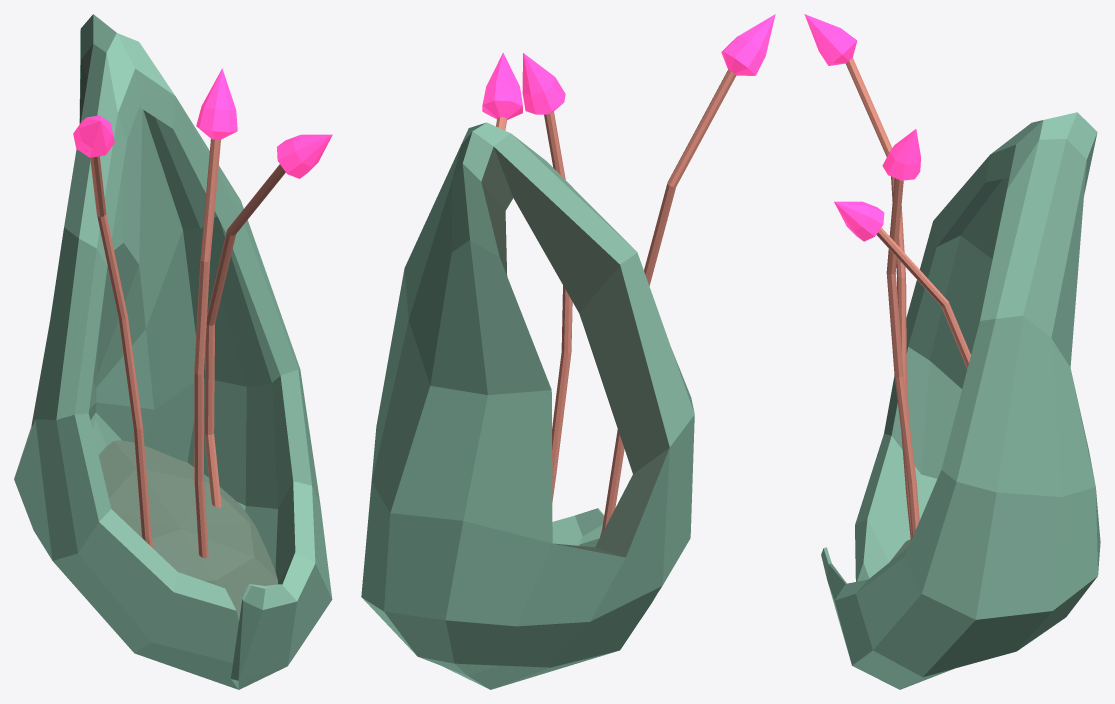
File: Plant_14_Var_04.fbx
3 views of the same model, side by side, from view 1: azimuth 30°, elevation 25°; view 2: azimuth 150°, elevation 25°; view 3: azimuth 270°, elevation 25° (orthographic). The views are drawn at different scales.
Visible parts, largest first — view 1: Plant_14_Var_04; view 2: Plant_14_Var_04; view 3: Plant_14_Var_04.
Part boxes in pixels (bbox=[...]): Plant_14_Var_04: bbox=[14, 14, 332, 689]; Plant_14_Var_04: bbox=[361, 14, 775, 689]; Plant_14_Var_04: bbox=[804, 14, 1100, 689].
Bounding box in the file's own units: 0.3898 × 0.8592 × 0.4084.
